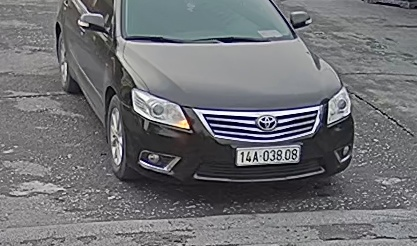vehicle plate: (234, 143, 303, 168)
